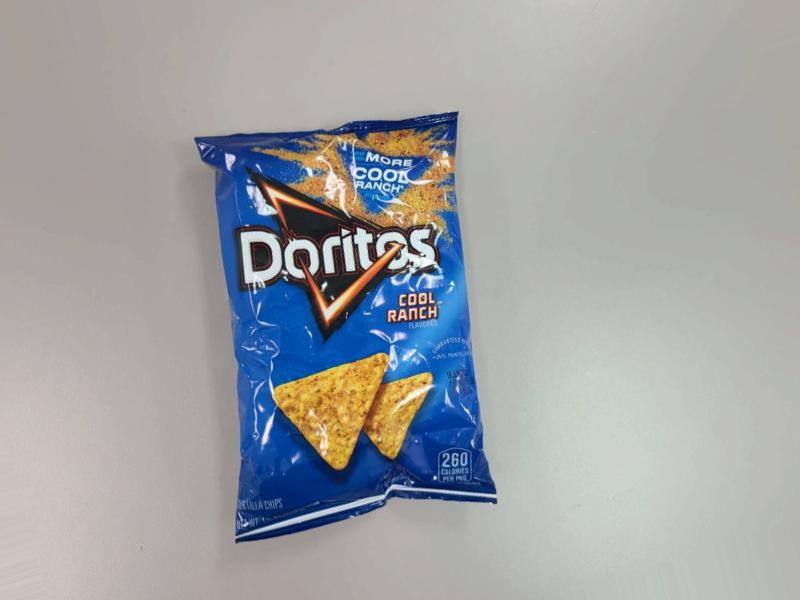doritos: (203, 86, 496, 543)
